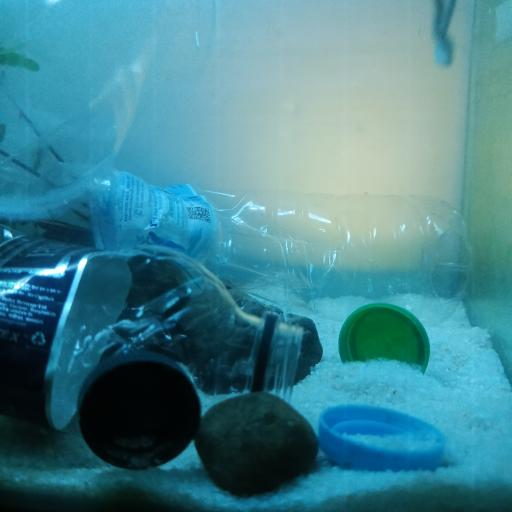bottle_cap: (78, 351, 202, 471), (316, 402, 447, 470), (338, 306, 432, 372)
plastic_bottle: (84, 167, 476, 332), (0, 219, 303, 429)
plastic_cup: (0, 0, 218, 218)
